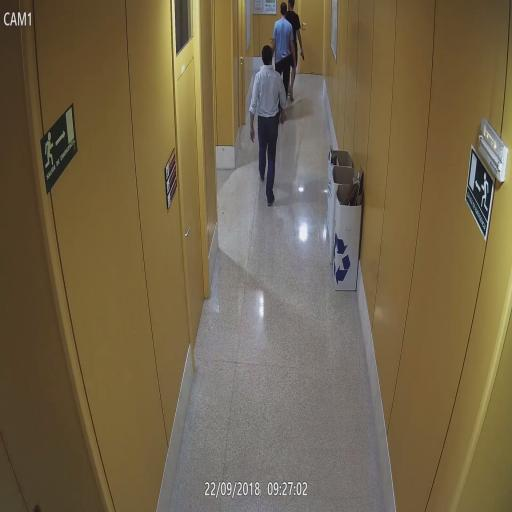Handgun: (291, 59, 298, 79), (298, 48, 306, 61)
